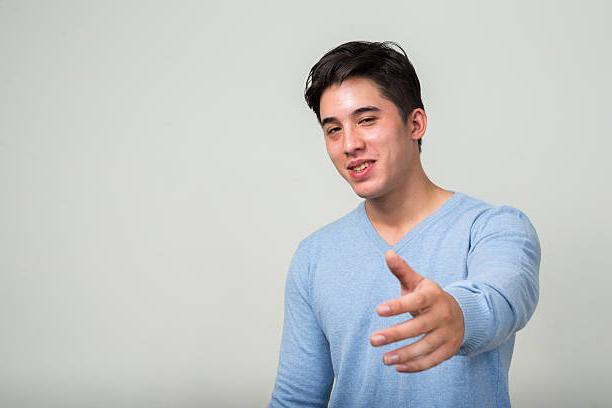Drunk: (316, 87, 403, 199)
